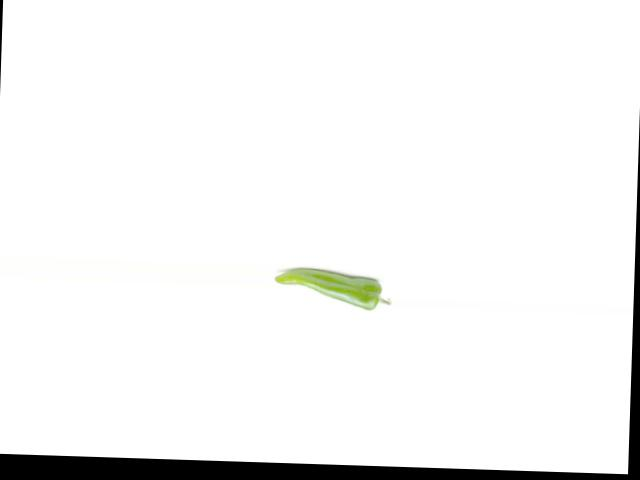bell_pepper: (273, 264, 396, 313)
